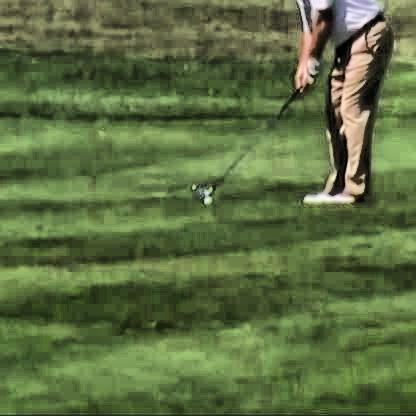golfball: (201, 193, 212, 203)
